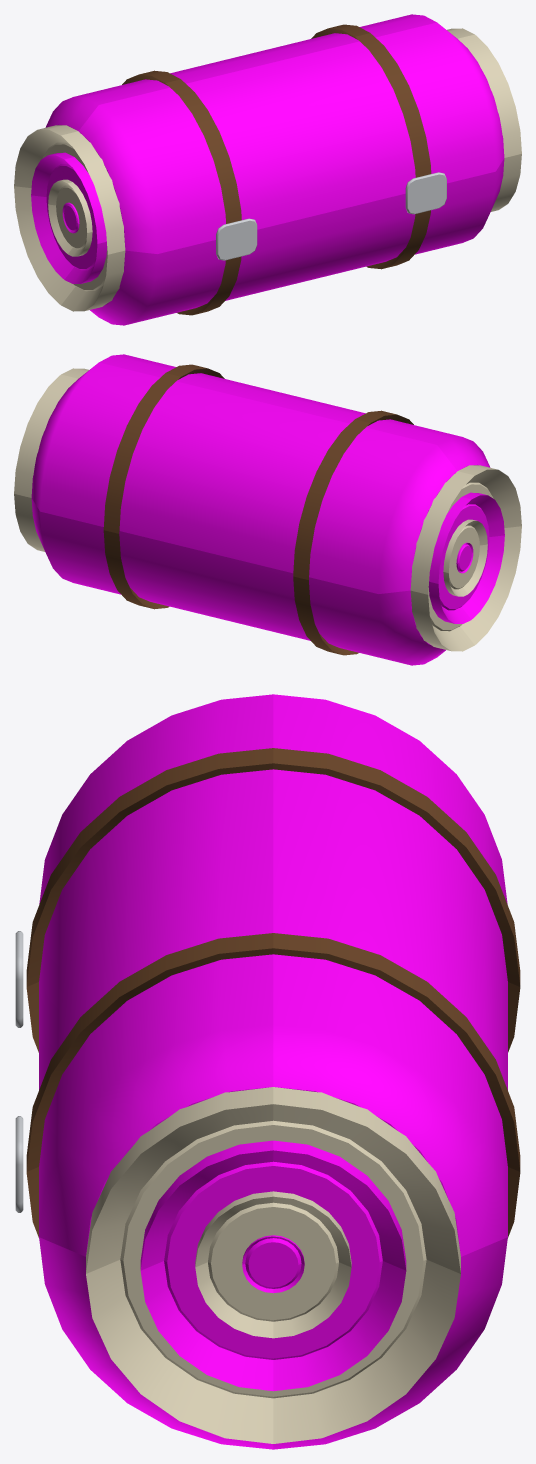
The model's file is objet_sac_couchage.glb.
3 renders of one model, top to bottom at view 1: azimuth 30°, elevation 25°; view 2: azimuth 150°, elevation 25°; view 3: azimuth 270°, elevation 25°, orthographic. The views are drawn at different scales.
Parts seen in each view (by area): view 1: couchage_teinte.002, couchage_interieur.002, couchage_sac_cuir.002, couchage_boucle.002; view 2: couchage_teinte.002, couchage_interieur.002, couchage_sac_cuir.002; view 3: couchage_teinte.002, couchage_interieur.002, couchage_sac_cuir.002, couchage_boucle.002.
Boxes of the visible parts, x1,y1,x2,y2 form: couchage_teinte.002: (31,14,504,325); couchage_interieur.002: (14,28,521,311); couchage_sac_cuir.002: (122,24,431,315); couchage_boucle.002: (216,172,446,260); couchage_teinte.002: (31,354,504,665); couchage_interieur.002: (14,368,521,651); couchage_sac_cuir.002: (103,364,413,655); couchage_teinte.002: (39,694,507,1449); couchage_interieur.002: (86,1087,460,1443); couchage_sac_cuir.002: (26,748,520,1238); couchage_boucle.002: (15,931,23,1212).
Bounding box in the file's own units: 0.306 × 0.158 × 0.1615.
